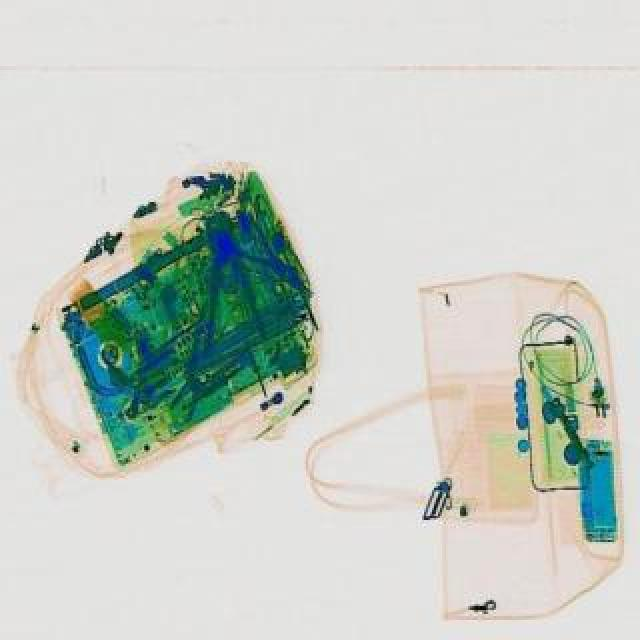wrench: (184, 208, 268, 354), (152, 318, 252, 428), (218, 216, 314, 304)
